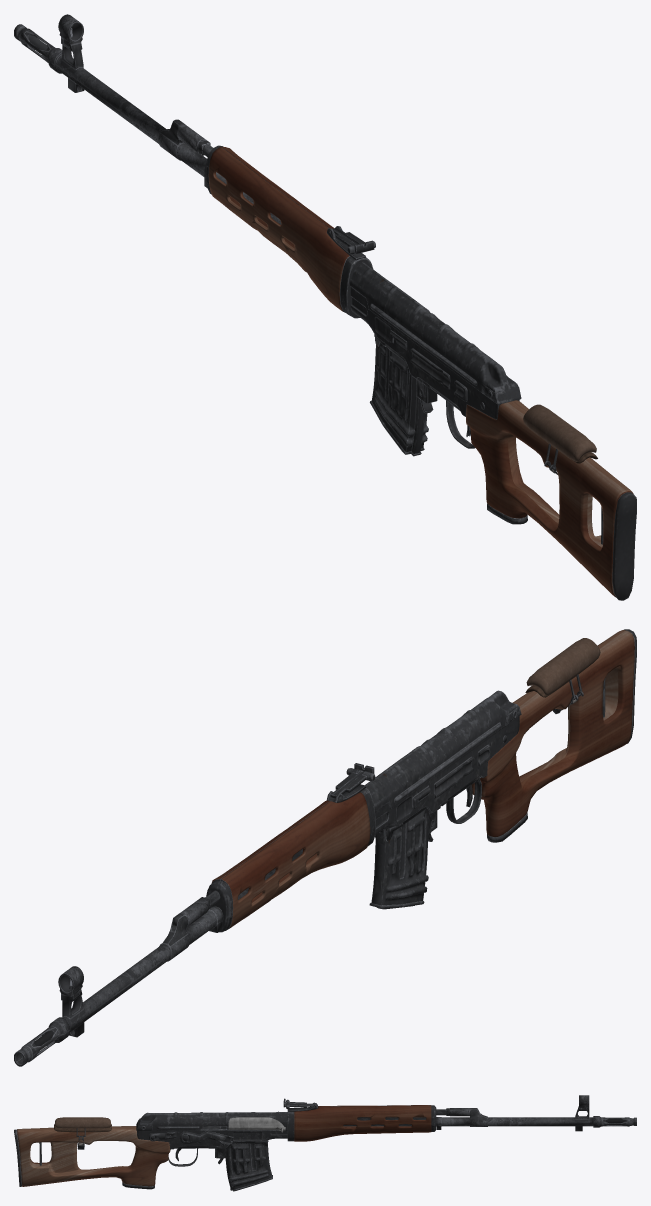
File: svd.obj
3 views of the same model, one above another, from view 1: azimuth 30°, elevation 25°; view 2: azimuth 150°, elevation 25°; view 3: azimuth 270°, elevation 25° (orthographic). The views are drawn at different scales.
Visible parts, largest first — view 1: Body, Magazine; view 2: Body, Magazine; view 3: Body, Magazine, Bolt.
Boxes of the visible parts, x1,y1,x2,y2 form: Body: (14,14,636,600); Magazine: (369,343,428,456); Body: (14,629,636,1066); Magazine: (369,809,428,909); Body: (14,1095,636,1189); Magazine: (225,1143,272,1191); Bolt: (179,1130,233,1144).
Bounding box in the file's own units: 0.0466 × 0.2034 × 1.22.
1 material, 1 textured.
